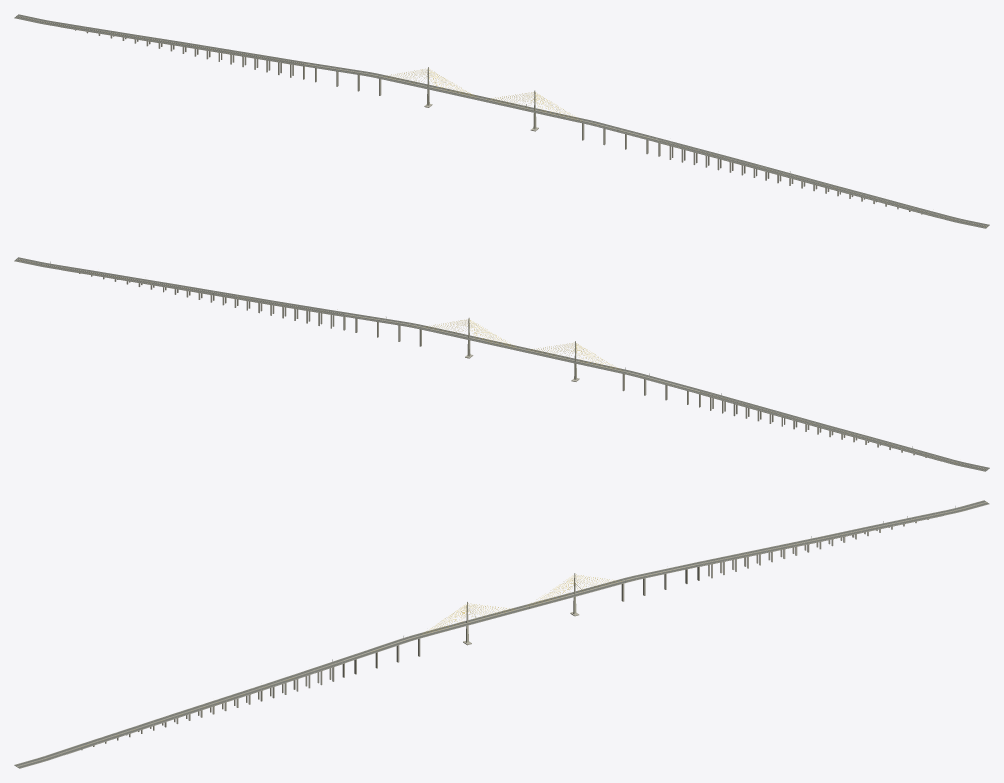
The model's file is sunshine-skyway-bridge-near.glb.
3 views of the same model, one above another, from view 1: azimuth 30°, elevation 25°; view 2: azimuth 210°, elevation 25°; view 3: azimuth 270°, elevation 25° (orthographic). The views are drawn at different scales.
Visible parts, largest first — view 1: sunshine-skyway-bridge-0-asphalt, sunshine-skyway-bridge-2-concrete, sunshine-skyway-bridge-0-concrete, sunshine-skyway-bridge-1-concrete, sunshine-skyway-bridge-2-median, sunshine-skyway-bridge-1-median, sunshine-skyway-bridge-0-median; view 2: sunshine-skyway-bridge-0-asphalt, sunshine-skyway-bridge-2-concrete, sunshine-skyway-bridge-0-concrete, sunshine-skyway-bridge-1-concrete, sunshine-skyway-bridge-0-median, sunshine-skyway-bridge-2-median, sunshine-skyway-bridge-1-median; view 3: sunshine-skyway-bridge-0-asphalt, sunshine-skyway-bridge-2-concrete, sunshine-skyway-bridge-0-concrete, sunshine-skyway-bridge-1-concrete.
Boxes of the visible parts, x1,y1,x2,y2 form: sunshine-skyway-bridge-0-asphalt: (15, 14, 989, 228); sunshine-skyway-bridge-2-concrete: (661, 140, 989, 228); sunshine-skyway-bridge-0-concrete: (14, 14, 341, 86); sunshine-skyway-bridge-1-concrete: (338, 67, 665, 156); sunshine-skyway-bridge-2-median: (663, 141, 987, 226); sunshine-skyway-bridge-1-median: (339, 69, 663, 141); sunshine-skyway-bridge-0-median: (16, 15, 339, 69); sunshine-skyway-bridge-0-asphalt: (14, 257, 989, 471); sunshine-skyway-bridge-2-concrete: (14, 257, 342, 328); sunshine-skyway-bridge-0-concrete: (662, 380, 989, 471); sunshine-skyway-bridge-1-concrete: (338, 312, 666, 395); sunshine-skyway-bridge-0-median: (664, 382, 987, 469); sunshine-skyway-bridge-2-median: (16, 259, 340, 313); sunshine-skyway-bridge-1-median: (340, 313, 664, 382); sunshine-skyway-bridge-0-asphalt: (14, 500, 988, 768); sunshine-skyway-bridge-2-concrete: (14, 660, 342, 768); sunshine-skyway-bridge-0-concrete: (661, 500, 989, 589); sunshine-skyway-bridge-1-concrete: (337, 570, 665, 677).
Bounding box in the file's own units: 1827 × 131 × 2809.
